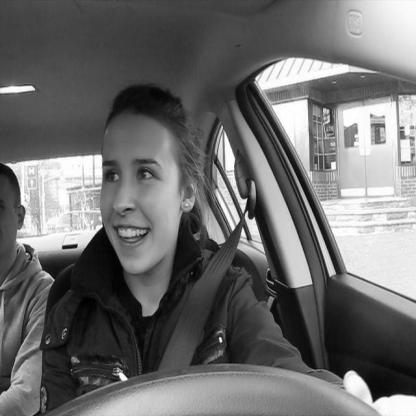seatbelt: (90, 67, 262, 413)
